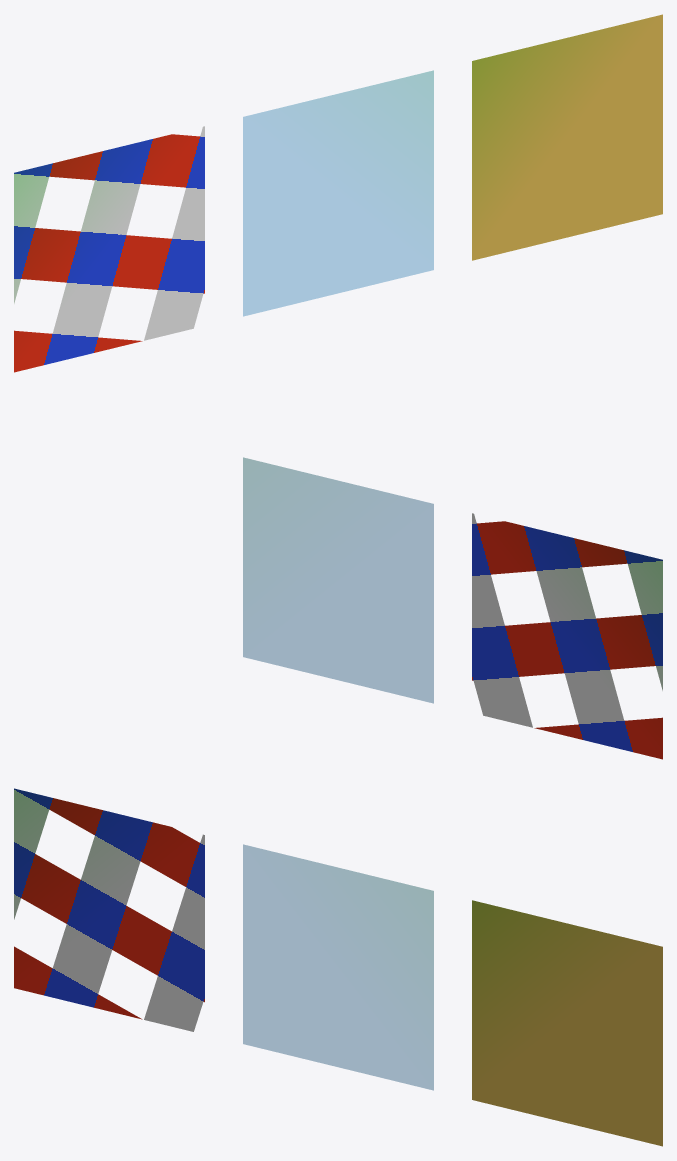
File: materials.gltf
3 renders of one model, top to bottom at view 1: azimuth 30°, elevation 25°; view 2: azimuth 150°, elevation 25°; view 3: azimuth 330°, elevation 25°, orthographic.
Parts seen in each view (by area): view 1: Metal, Mirrored blend, Masked; view 2: Mirrored blend, Masked; view 3: Metal, Mirrored blend, Masked.
Part boxes in pixels (left/top/right/bottom): Metal: left=472, top=14, right=662, bottom=260; Mirrored blend: left=243, top=70, right=433, bottom=316; Masked: left=14, top=126, right=204, bottom=372; Mirrored blend: left=243, top=457, right=433, bottom=703; Masked: left=472, top=513, right=662, bottom=759; Metal: left=472, top=900, right=662, bottom=1146; Mirrored blend: left=243, top=844, right=433, bottom=1090; Masked: left=14, top=788, right=204, bottom=1031.
Bounding box in the file's own units: 3.4 × 1 × 0.
Materials: 3 (1 with a texture image).
